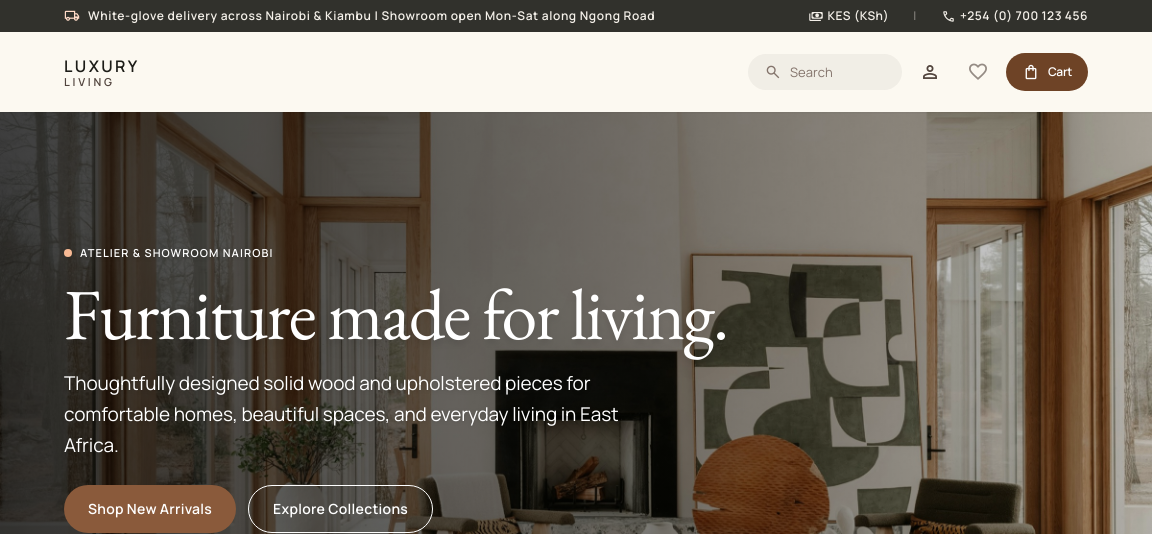
Test case: moving between pages › searches from the header and lands on the shop with the results
Step 1. Type "teak" into the search field named "Search furniture" → (838, 72), box [790,62,886,82]
Then press Enter
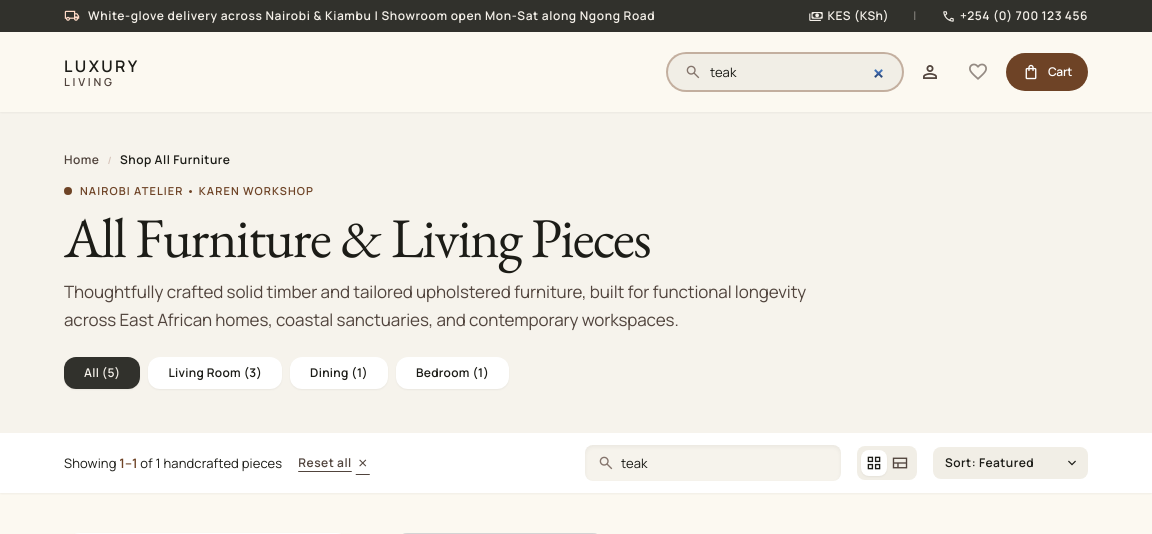
Expected: the search field named "Filter by timber" holds "teak", [585,445,841,481]
